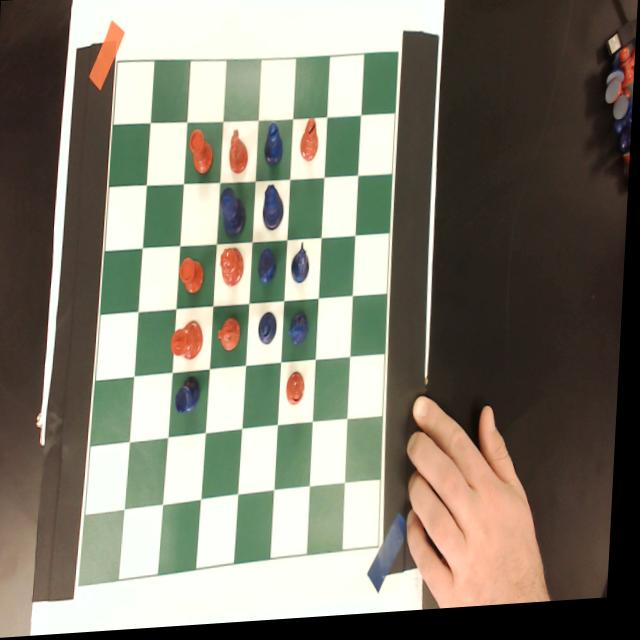B: (264, 124, 286, 173), (259, 312, 281, 350)
K: (220, 186, 249, 243)
N: (290, 310, 314, 354), (292, 241, 313, 288)
Q: (262, 185, 287, 237)
R: (177, 376, 205, 417), (258, 248, 281, 287)
b: (300, 119, 322, 166), (288, 374, 310, 409)
k: (172, 320, 207, 365)
n: (228, 129, 252, 180), (219, 315, 246, 356)
q: (220, 246, 247, 290)
r: (188, 129, 216, 181), (180, 257, 208, 299)
